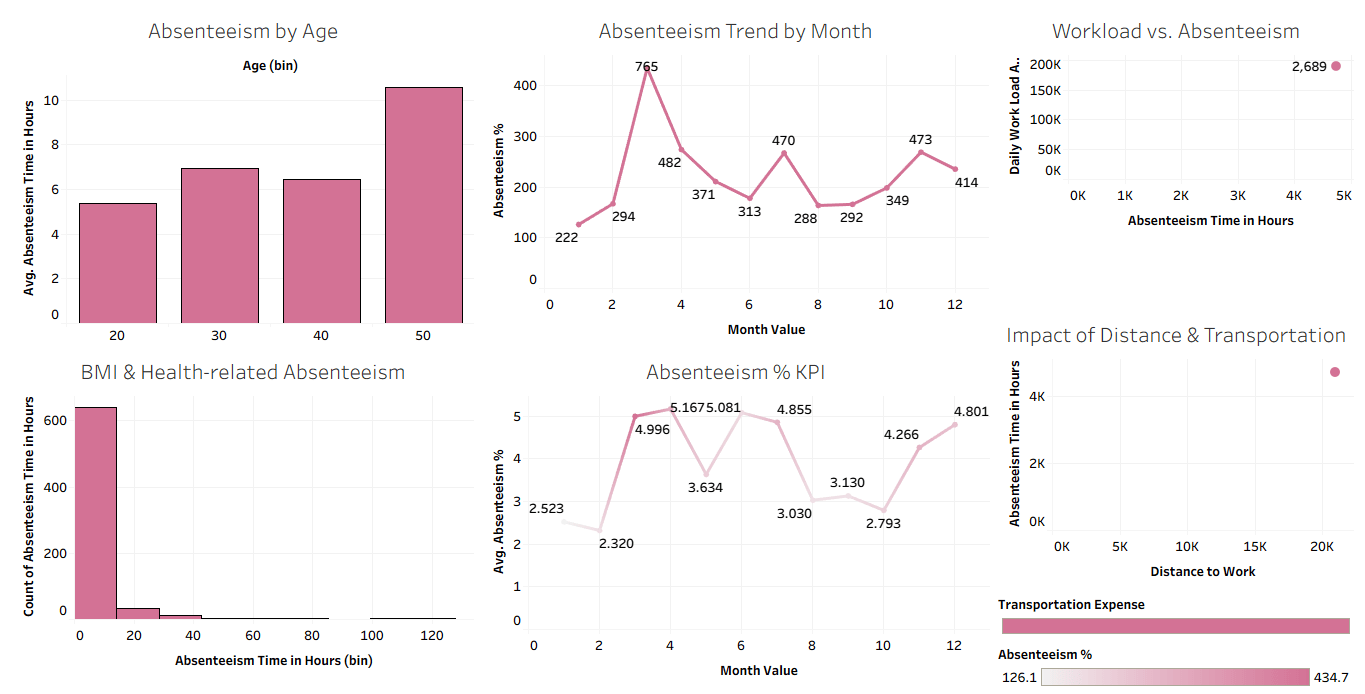

The dashboard page shown, as its layout file describes it:
{"tool":"tableau","page":{"name":"Dashboard 1","canvas":[1000,1000],"units":"permille","ordinal":0},"visuals":[{"type":"worksheet","title":"Absenteeism by Age","mark":"Automatic","rows":["Absenteeism Time in Hours"],"cols":["Age (bin)"],"box":[6.8,14.7,323.5,485.2]},{"type":"worksheet","title":"Absenteeism Trend by Month","mark":"Automatic","rows":["Calculation_1346931032100867"],"cols":["Month Value"],"box":[330.3,14.7,354.4,485.2]},{"type":"worksheet","title":"Workload vs. Absenteeism","mark":"Shape","rows":["Daily Work Load Average"],"cols":["Absenteeism Time in Hours"],"box":[684.8,14.7,308.5,426.5]},{"type":"worksheet","title":"Impact of Distance & Transportation","mark":"Circle","rows":["Absenteeism Time in Hours"],"cols":["Distance to Work"],"box":[684.8,446.7,308.5,356.6]},{"type":"worksheet","title":"BMI & Health-related Absenteeism","mark":"Automatic","rows":["Absenteeism Time in Hours"],"cols":["Absenteeism Time in Hours (bin)"],"box":[6.8,500,323.4,485.3]},{"type":"worksheet","title":"Absenteeism % KPI","mark":"Automatic","rows":["Calculation_1346931032100867"],"cols":["Month Value"],"box":[330.2,500,354.5,485.3]},{"type":"legend","title":"Impact of Distance & Transportation","param":"[federated.0zemyvm02ikmb81af9op01nfxpjg].[sum:Transportation Expense:qk]","box":[684.8,803.3,308.5,91.9]},{"type":"legend","title":"Absenteeism % KPI","param":"[federated.0zemyvm02ikmb81af9op01nfxpjg].[sum:Calculation_1346931032100867:qk]","box":[684.8,895.2,308.5,90.1]}]}

Visuals, with their boxes on the dashboard's canvas, which has no fixed pixel size, in thousandths of its width and height (x1, y1, x2, y2). These are canvas units, not pixel positions in the 1365x694 screenshot, which may show the page scaled, cropped or inside an application window:
"Absenteeism by Age" worksheet: BBox(7, 15, 330, 500)
"Absenteeism Trend by Month" worksheet: BBox(330, 15, 685, 500)
"Workload vs. Absenteeism" worksheet (Shape marks): BBox(685, 15, 993, 441)
"Impact of Distance & Transportation" worksheet (Circle marks): BBox(685, 447, 993, 803)
"BMI & Health-related Absenteeism" worksheet: BBox(7, 500, 330, 985)
"Absenteeism % KPI" worksheet: BBox(330, 500, 685, 985)
"Impact of Distance & Transportation" legend: BBox(685, 803, 993, 895)
"Absenteeism % KPI" legend: BBox(685, 895, 993, 985)
